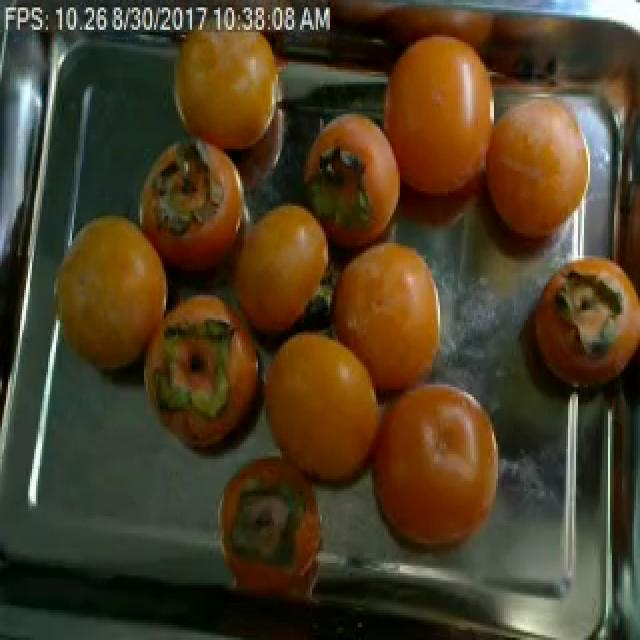Fruit: (352, 357, 512, 571), (246, 305, 398, 519), (126, 288, 272, 474), (44, 198, 182, 392), (314, 216, 446, 412), (284, 87, 422, 273), (212, 178, 338, 364), (510, 241, 640, 419), (158, 10, 292, 174)
